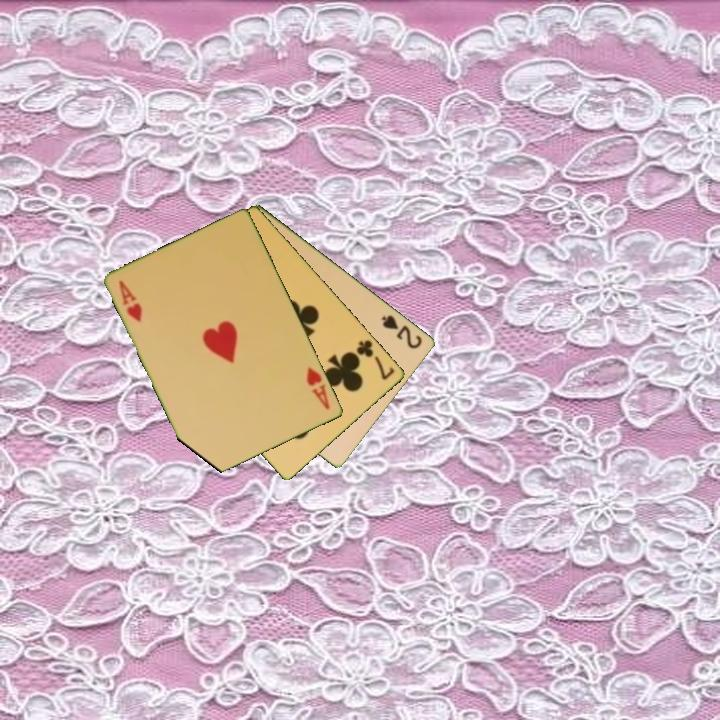2s: (378, 311, 425, 352)
7c: (353, 336, 398, 383)
Ah: (303, 363, 333, 412), (116, 277, 146, 325)
